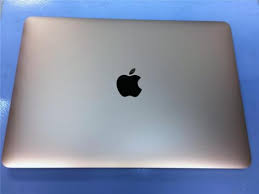apple: (108, 64, 152, 104)
